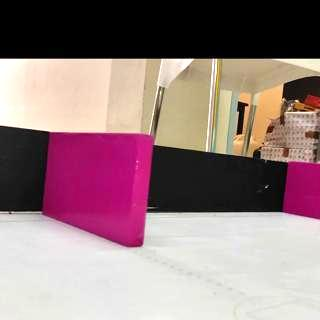xparking: (50, 136, 146, 237), (289, 162, 320, 213)
